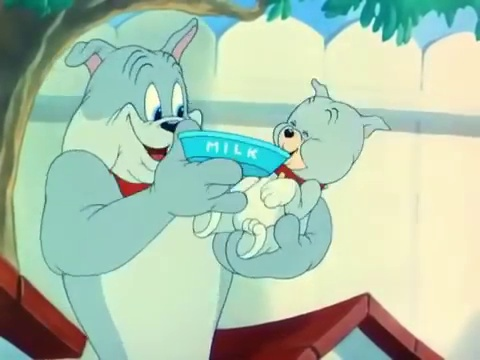spike: (64, 17, 205, 200)
